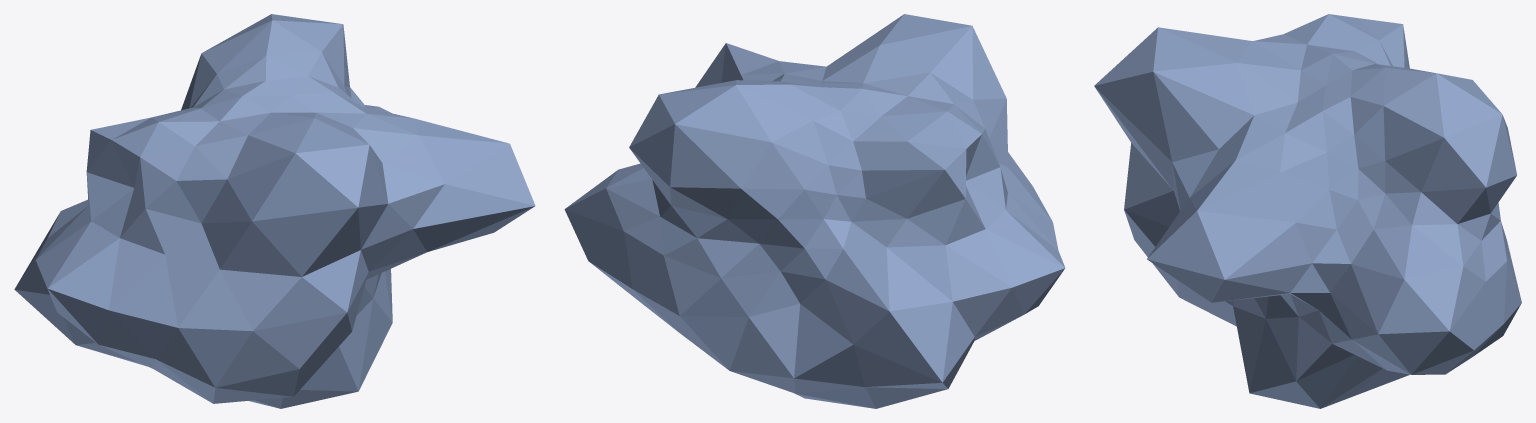
3 renders of one model, left to right at view 1: azimuth 30°, elevation 25°; view 2: azimuth 150°, elevation 25°; view 3: azimuth 270°, elevation 25°, orthographic. The views are drawn at different scales.
Parts seen in each view (by area): view 1: Icosphere.009; view 2: Icosphere.009; view 3: Icosphere.009.
Boxes of the visible parts, x1,y1,x2,y2 form: Icosphere.009: (14, 14, 535, 408); Icosphere.009: (564, 14, 1065, 408); Icosphere.009: (1094, 14, 1521, 408).
Size of the model in its own units: 160 by 111 by 126.
